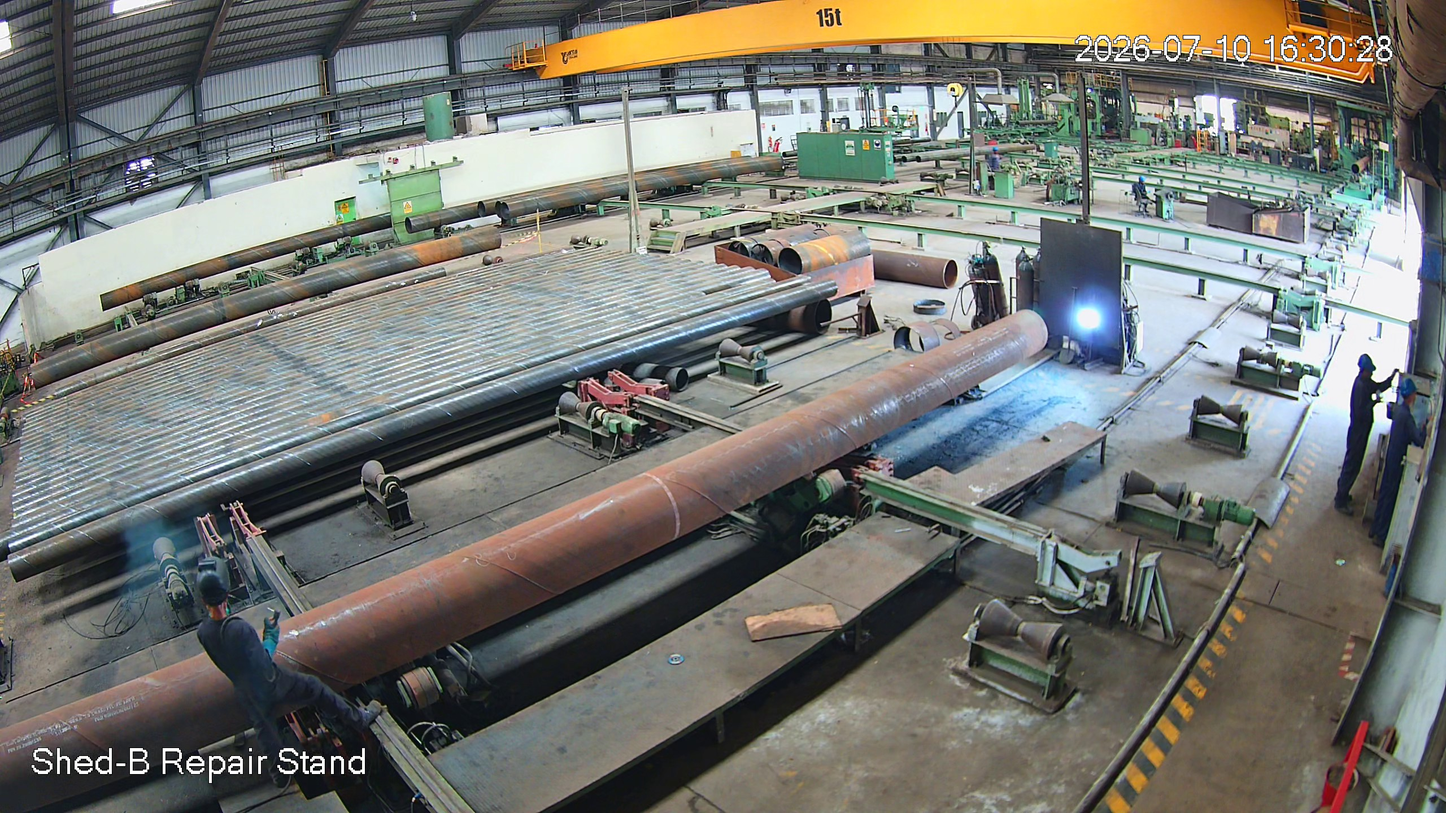Helmet: (1354, 349, 1381, 391), (1394, 375, 1421, 417)
Person: (186, 567, 377, 796), (1329, 355, 1392, 519), (1372, 380, 1425, 541)
